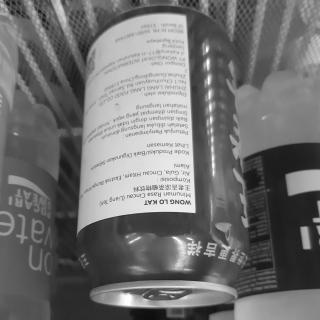alumunium_can: (72, 0, 256, 320)
